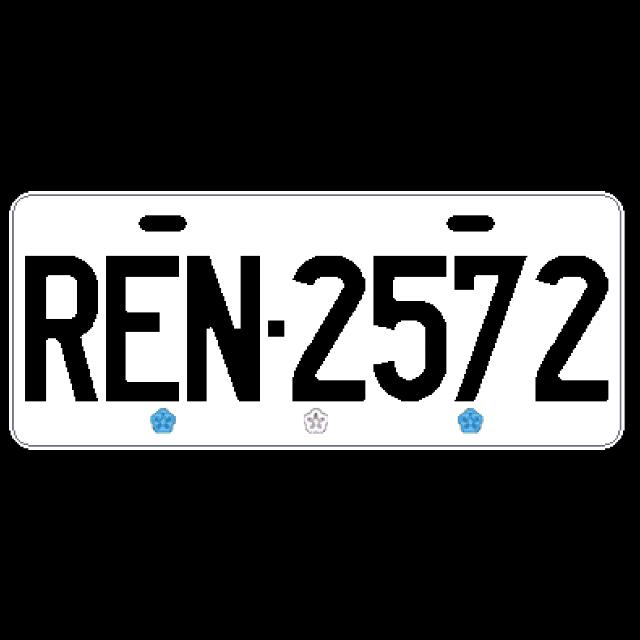plate: (7, 188, 627, 452)
